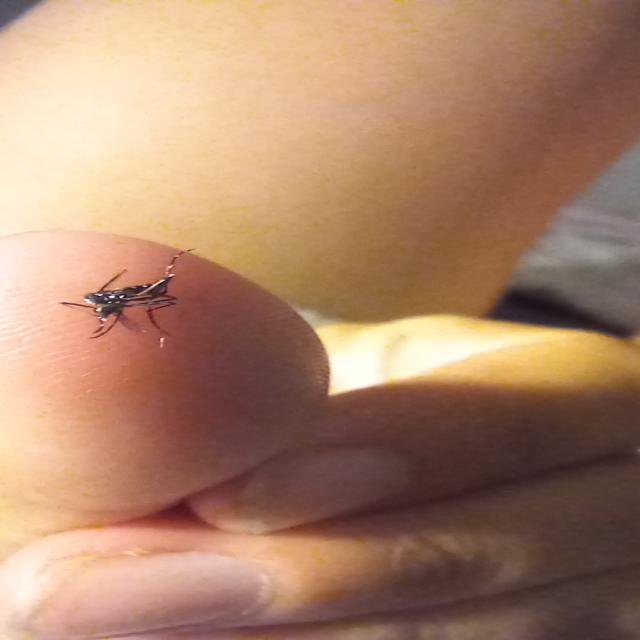albopictus: (48, 239, 208, 346)
